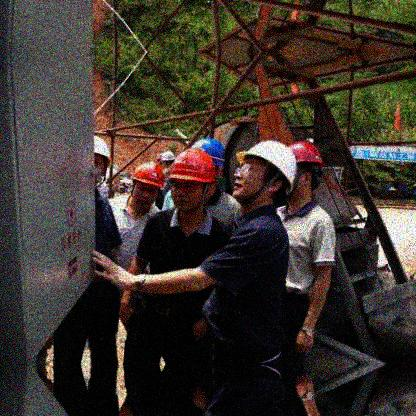helmet: (231, 139, 294, 213), (169, 148, 215, 216), (287, 140, 324, 206), (131, 161, 164, 213), (93, 134, 110, 184), (161, 152, 174, 167)
